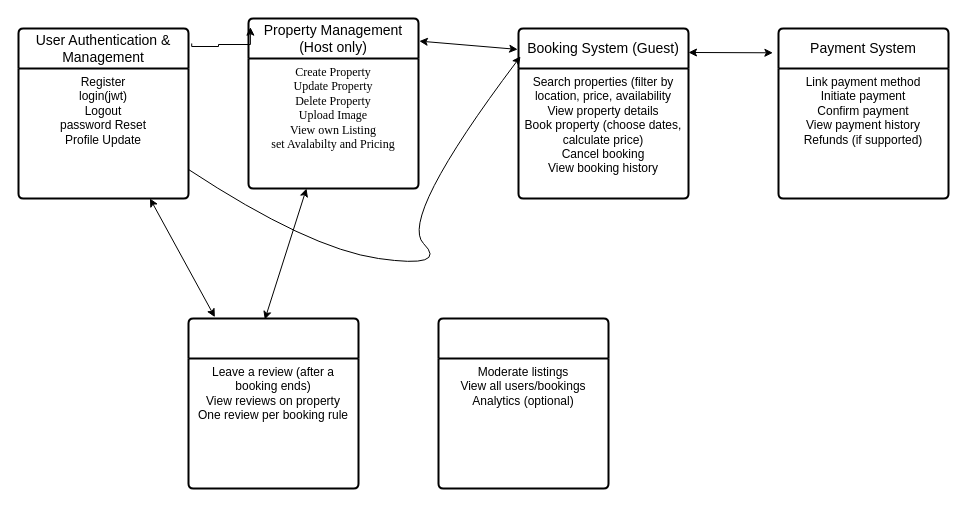
The diagram is 966 pixels wide and 506 high, and some of its shapes have lost their labels. The box of each missing label's shape, as (x1, y1, x2, y2) in pixels:
Admin (Optional): (437, 317, 609, 489)
Review System: (187, 317, 359, 489)
